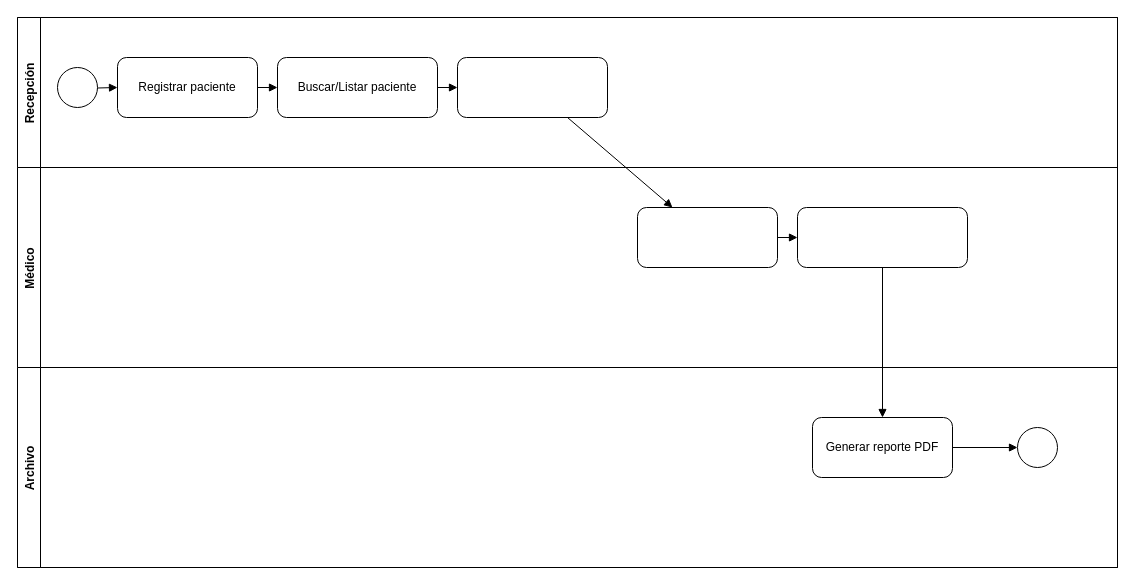
Some shapes in this 1135 by 585 pixel diagram are drawn without their labels. The centre of each missing label's shape, as x and y in pixels:
"Atender paciente" goes at pixel 707 237.
"Generar cita médica" goes at pixel 532 87.
"Registrar historial médico" goes at pixel 882 237.
